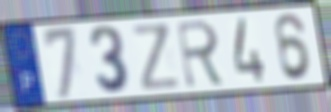3: (87, 23, 132, 97)
4: (233, 16, 267, 85)
6: (272, 11, 311, 83)
7: (40, 23, 80, 102)
R: (174, 18, 228, 90)
Z: (129, 21, 183, 93)
